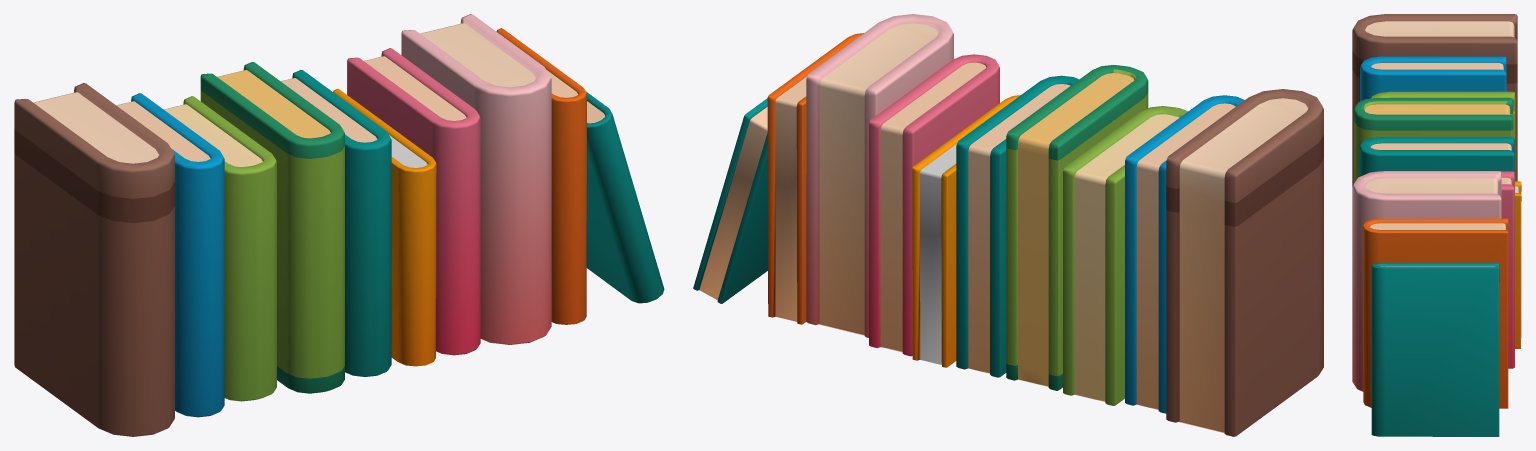
File: Book_001.fbx
3 views of the same model, side by side, from view 1: azimuth 30°, elevation 25°; view 2: azimuth 150°, elevation 25°; view 3: azimuth 270°, elevation 25° (orthographic). The views are drawn at different scales.
Visible parts, largest first — view 1: Book_001; view 2: Book_001; view 3: Book_001.
Part boxes in pixels (x1,y1,x2,y2): Book_001: (14,14,664,436); Book_001: (693,14,1323,436); Book_001: (1352,14,1521,436).
Size of the model in its own units: 0.6973 by 0.3198 by 0.2293.
